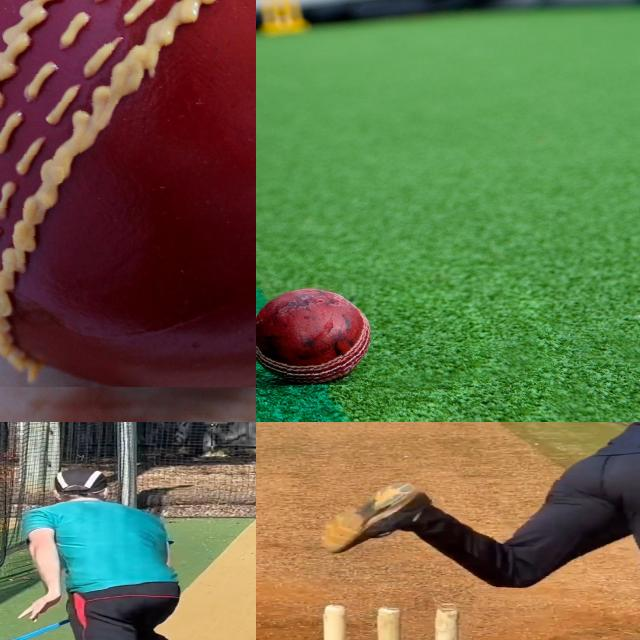Cricket ball: (0, 0, 256, 386), (256, 283, 374, 385)
Stumps: (319, 600, 473, 640)
